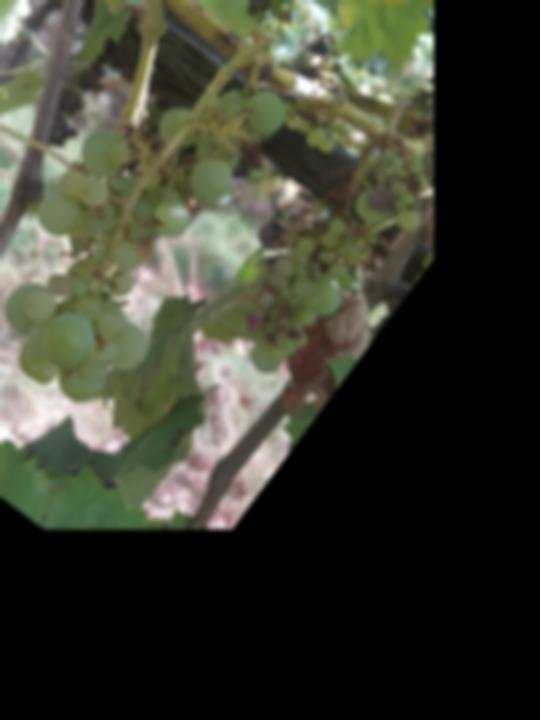grape: (0, 15, 323, 432)
